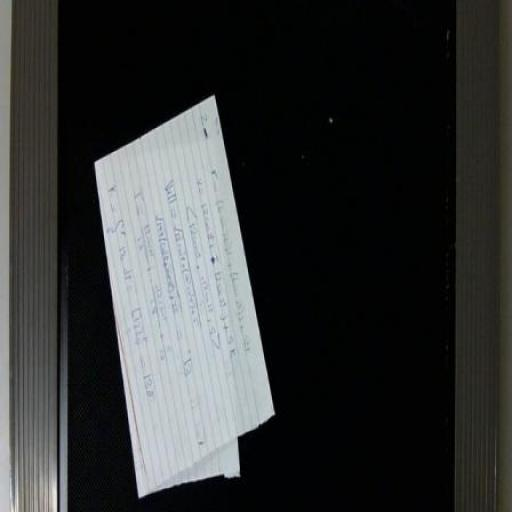paper: (70, 74, 284, 506)
